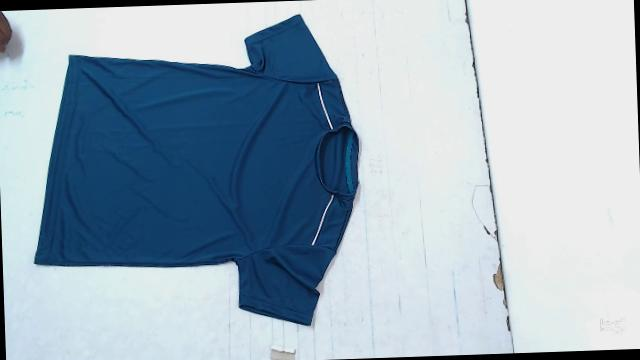new-garment: (35, 15, 359, 325)
